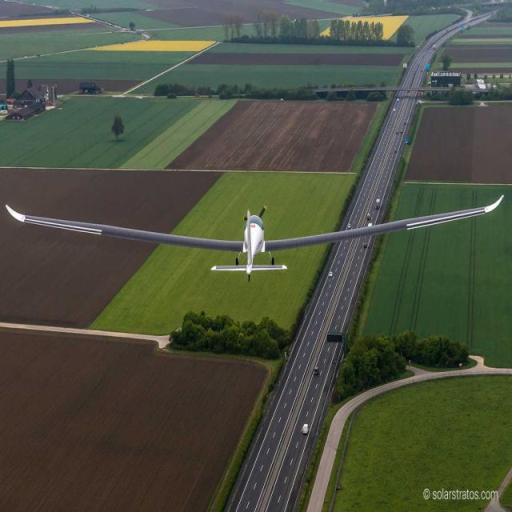uav: (4, 192, 505, 282)
